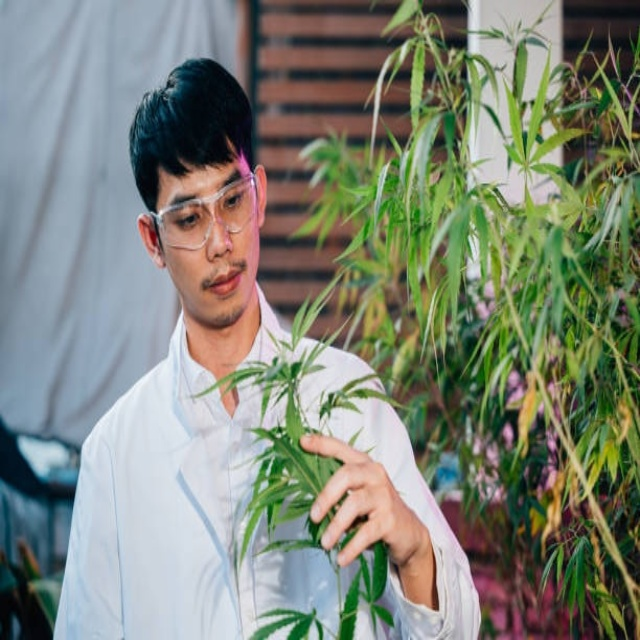Gafas: (150, 171, 260, 250)
Sin_guantes: (300, 431, 421, 571)
Sin_mascara: (192, 259, 249, 318)
